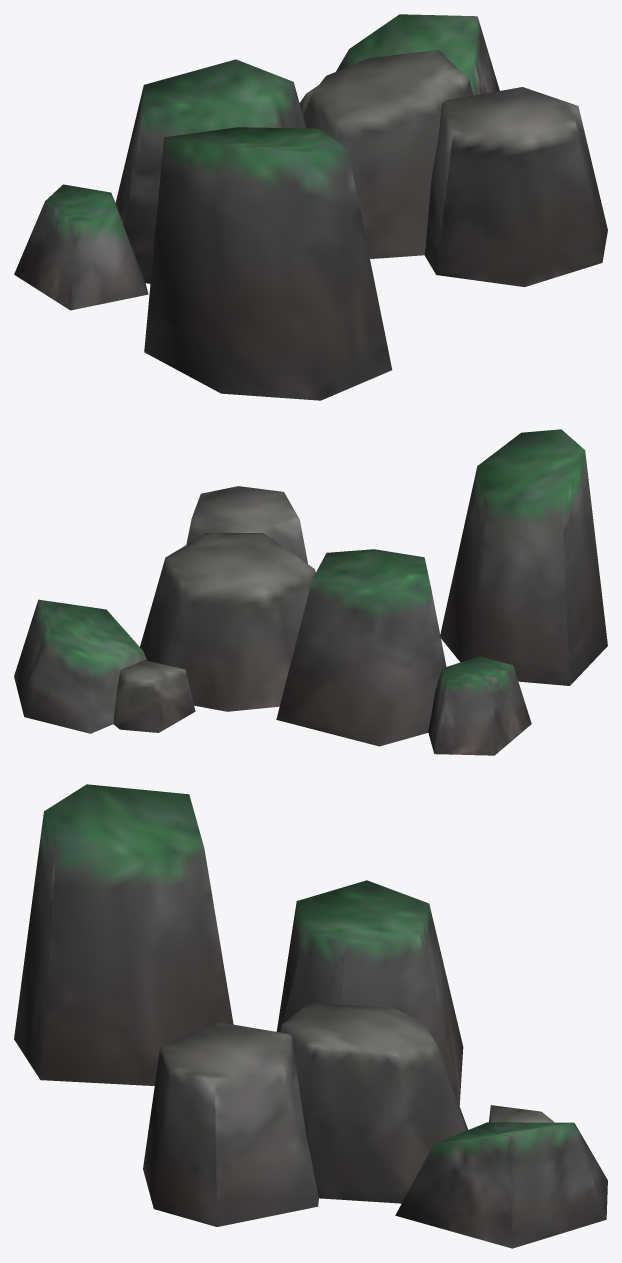
File: Area_03_10.fbx
3 renders of one model, top to bottom at view 1: azimuth 30°, elevation 25°; view 2: azimuth 150°, elevation 25°; view 3: azimuth 270°, elevation 25°, orthographic. The views are drawn at different scales.
Visible parts, largest first — view 1: Area_03_10; view 2: Area_03_10; view 3: Area_03_10.
Boxes of the visible parts, left/top/right/bottom form: Area_03_10: left=14, top=14, right=607, bottom=400; Area_03_10: left=14, top=429, right=607, bottom=755; Area_03_10: left=14, top=784, right=607, bottom=1248.
Size of the model in its own units: 820 by 344 by 793.
